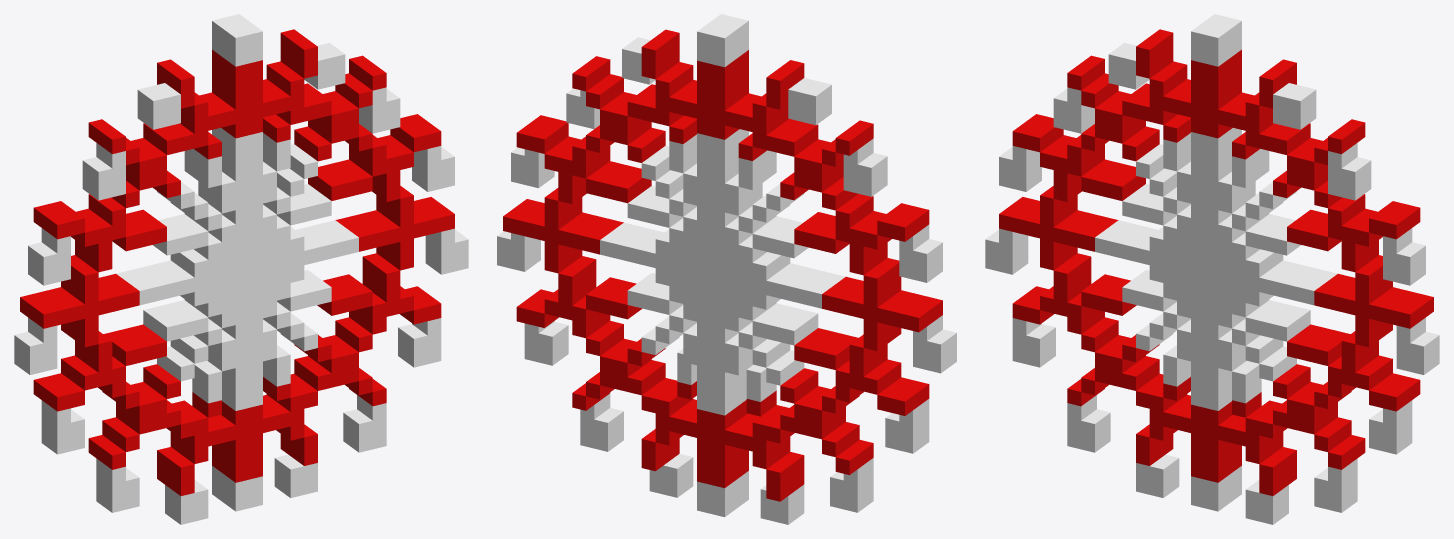
Rendered from amu.glb.
3 views of the same model, side by side, from view 1: azimuth 30°, elevation 25°; view 2: azimuth 150°, elevation 25°; view 3: azimuth 330°, elevation 25° (orthographic).
Parts seen in each view (by area): view 1: Untitled; view 2: Untitled; view 3: Untitled.
Boxes of the visible parts, <box> form: Untitled: <box>14,14,468,524</box>; Untitled: <box>497,14,956,524</box>; Untitled: <box>985,14,1439,524</box>.
Size of the model in its own units: 3.2 by 3.3 by 0.3.
1 material, 1 textured.
